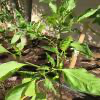Bell_pepper leaf: (62, 67, 99, 95), (0, 61, 33, 82)
